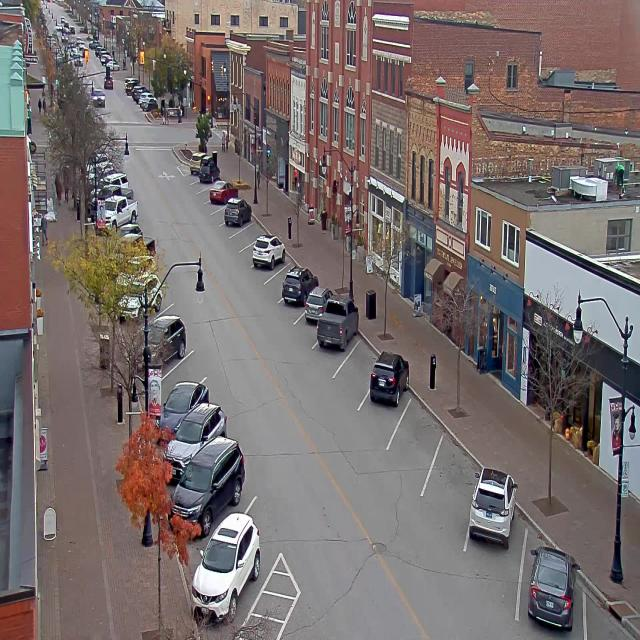available: (428, 437, 482, 524), (394, 390, 446, 467), (579, 586, 639, 639), (161, 340, 212, 389), (342, 332, 378, 390), (267, 256, 295, 291), (240, 211, 263, 245), (209, 197, 227, 230), (196, 182, 209, 205)
occupied: (169, 435, 245, 538), (189, 508, 270, 602), (526, 544, 580, 631), (468, 466, 517, 547), (156, 379, 209, 441), (168, 397, 230, 448), (316, 296, 358, 352), (368, 350, 409, 406), (143, 314, 187, 364), (282, 264, 318, 305), (252, 232, 285, 269), (302, 287, 332, 325), (224, 197, 252, 227), (207, 181, 240, 202), (198, 159, 220, 184), (189, 152, 204, 174)
